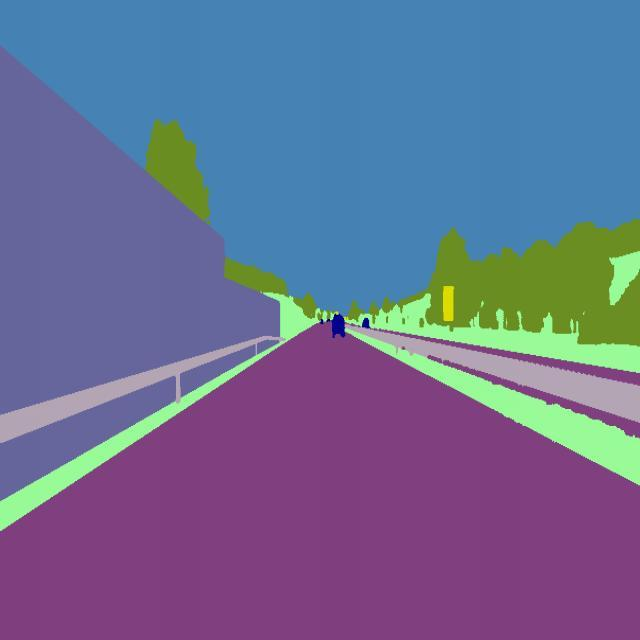safe: (327, 308, 350, 346)
